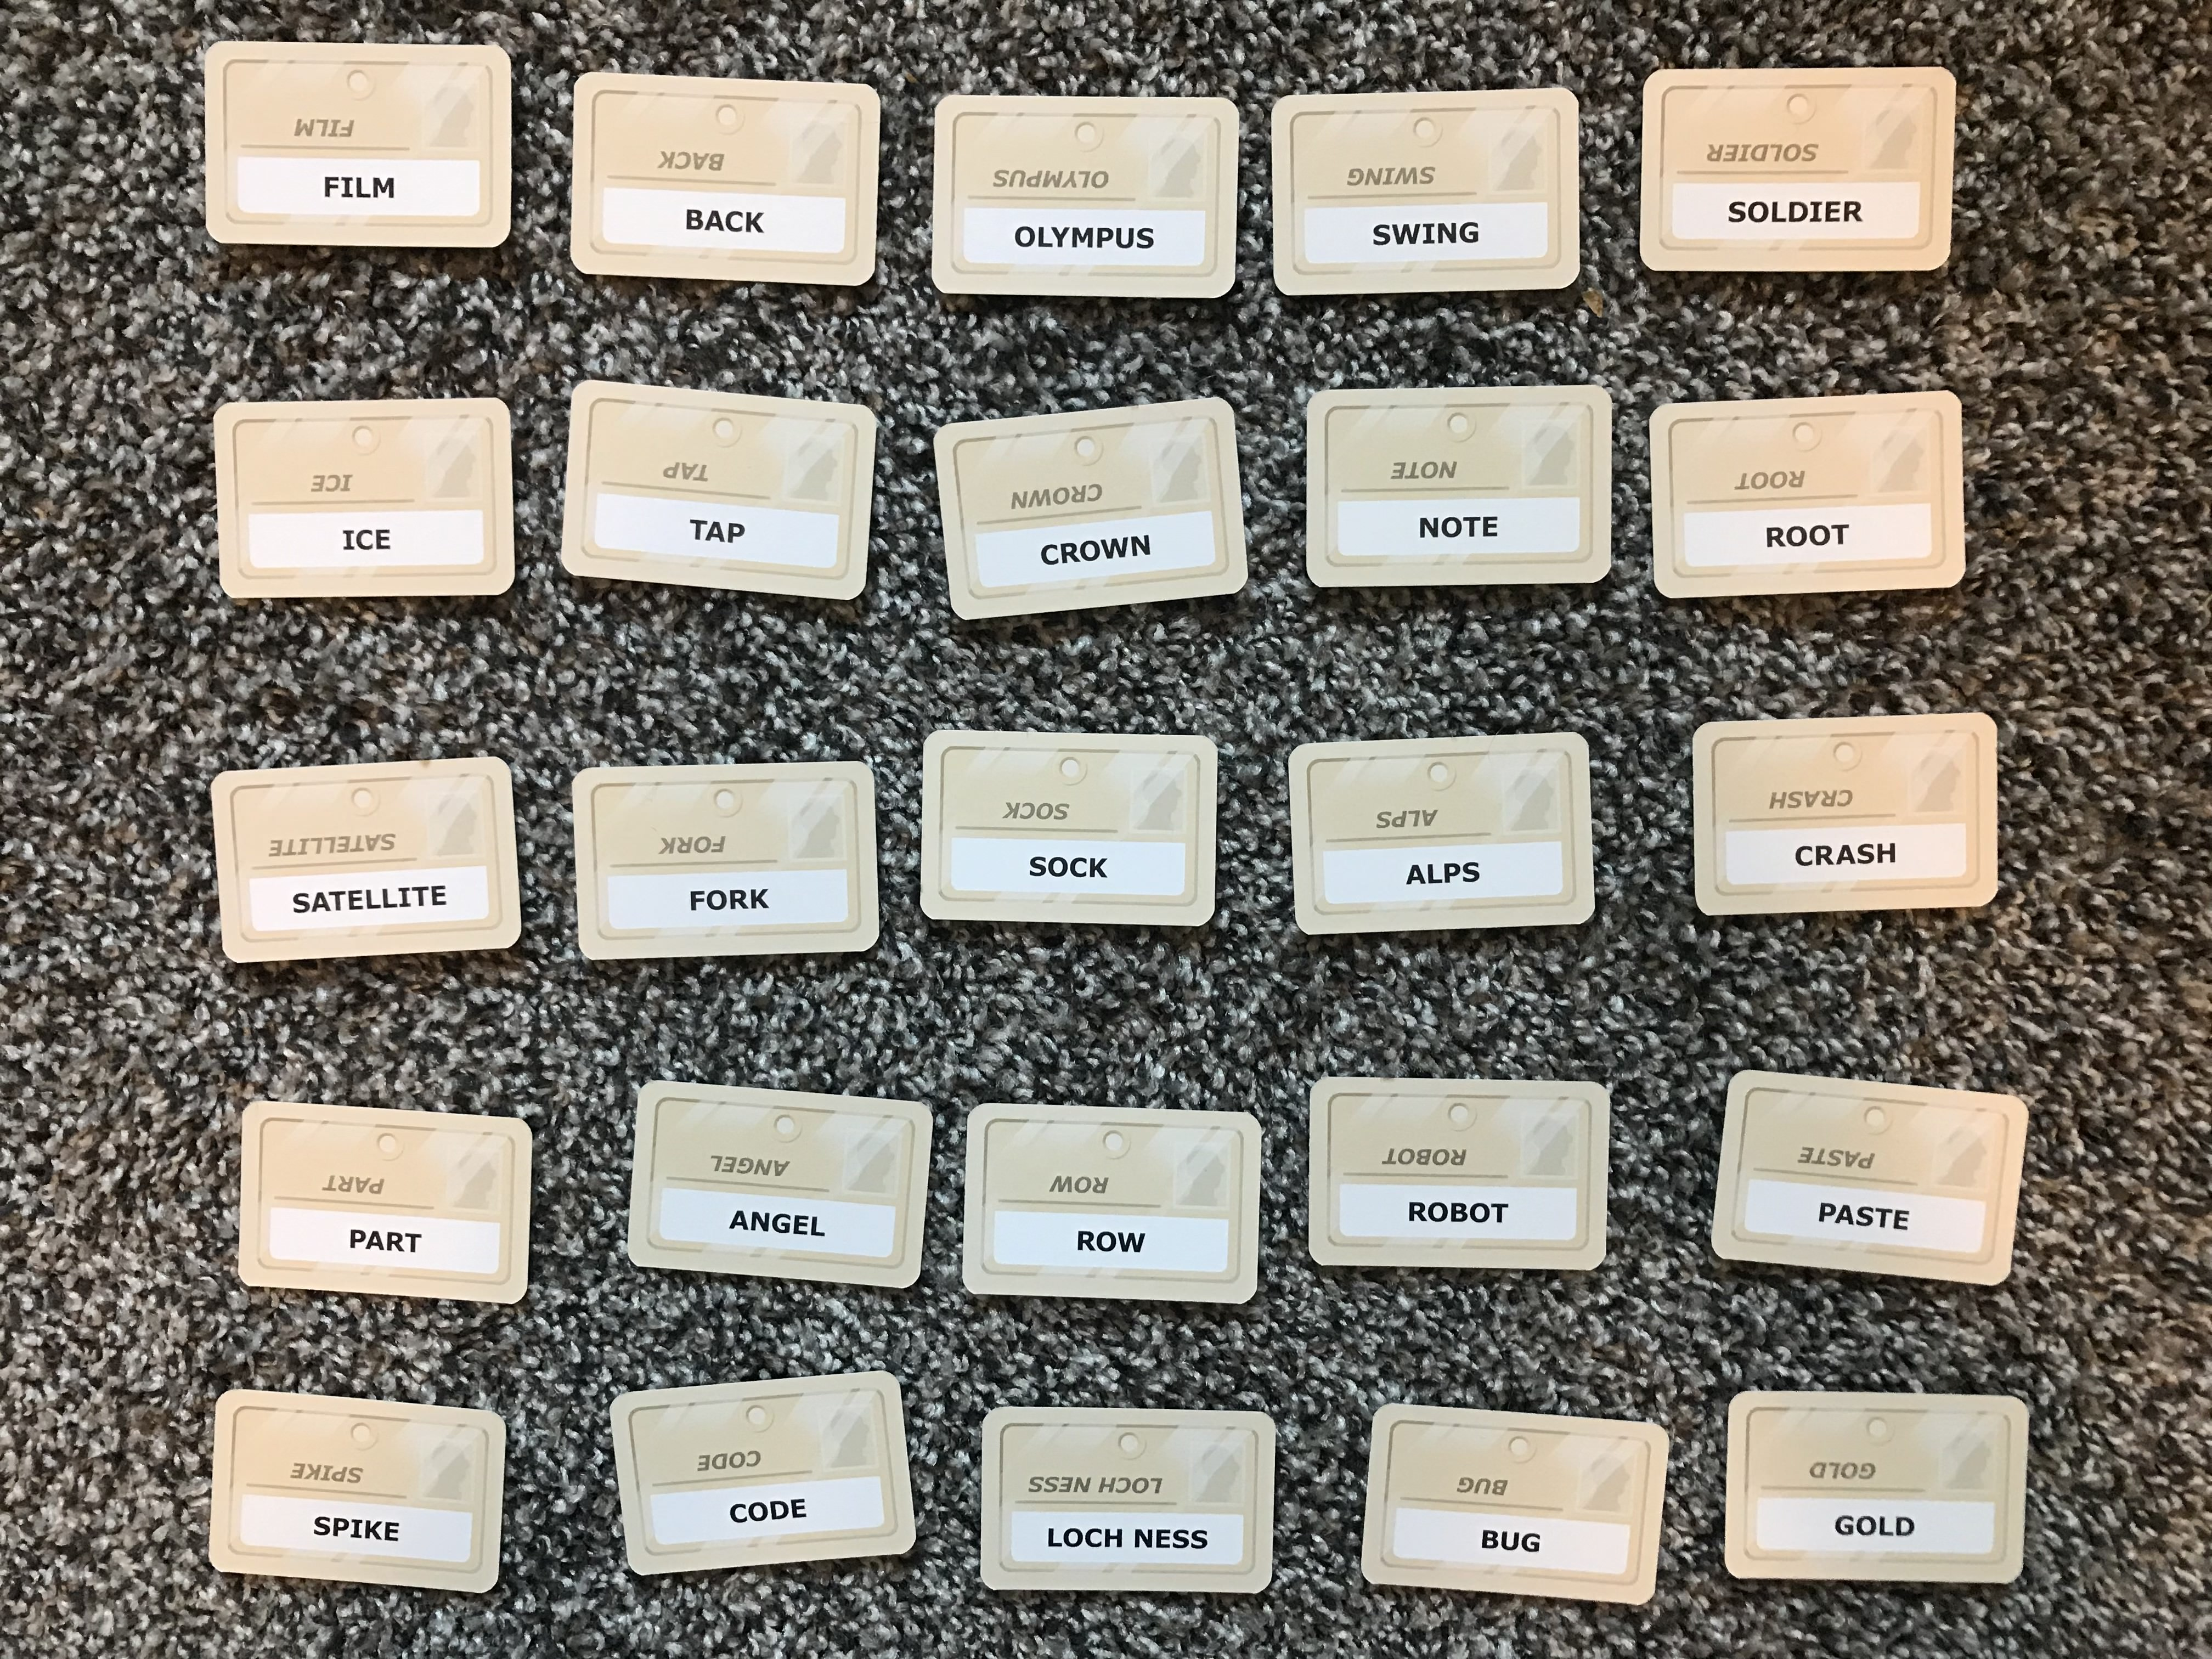A: (1834, 836, 1860, 873), (364, 1222, 385, 1260), (704, 204, 725, 237), (728, 1208, 752, 1236), (705, 518, 725, 552), (1834, 1199, 1853, 1234), (1404, 857, 1421, 894), (314, 887, 333, 920)
